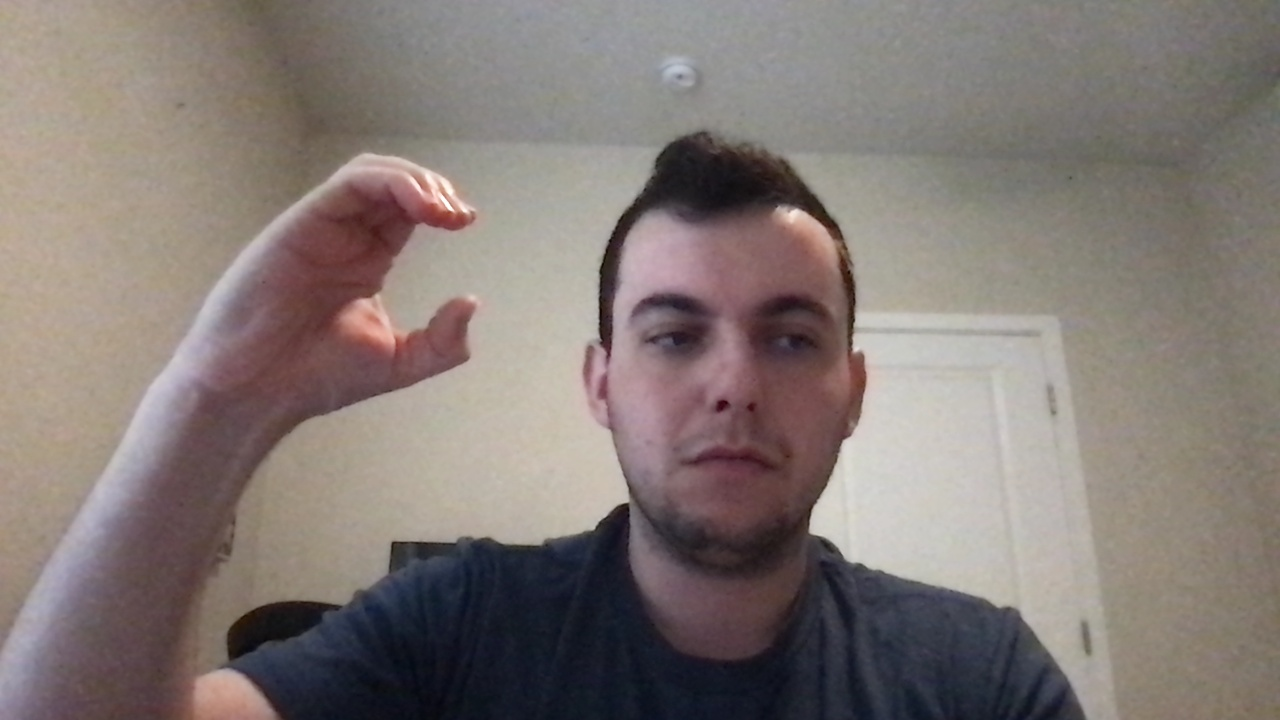c: (169, 147, 513, 403)
